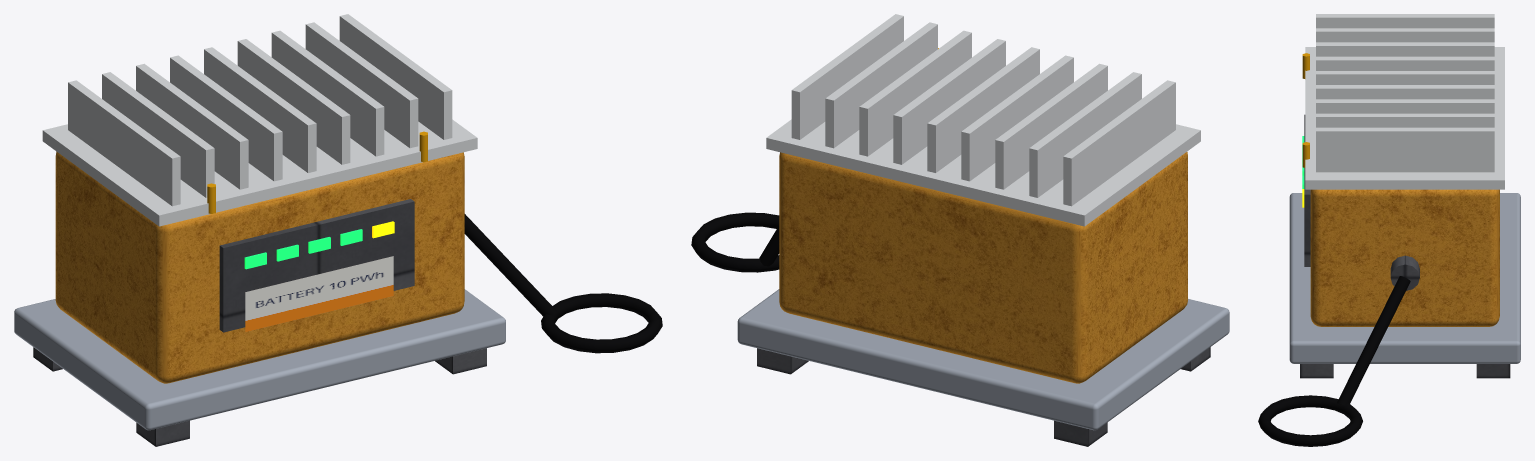
The model's file is LunarBattery.glb.
The picture shows the model from 3 angles, left to right: view 1: azimuth 30°, elevation 25°; view 2: azimuth 150°, elevation 25°; view 3: azimuth 270°, elevation 25°; orthographic projection. The views are drawn at different scales.
Visible parts, largest first — view 1: LunarBattery_Mesh; view 2: LunarBattery_Mesh; view 3: LunarBattery_Mesh.
Part boxes in pixels (x1,y1,x2,y2): LunarBattery_Mesh: [14, 14, 662, 446]; LunarBattery_Mesh: [691, 14, 1229, 446]; LunarBattery_Mesh: [1258, 14, 1520, 446].
Size of the model in its own units: 2.45 by 1.24 by 1.25.
9 materials, 3 textured.
